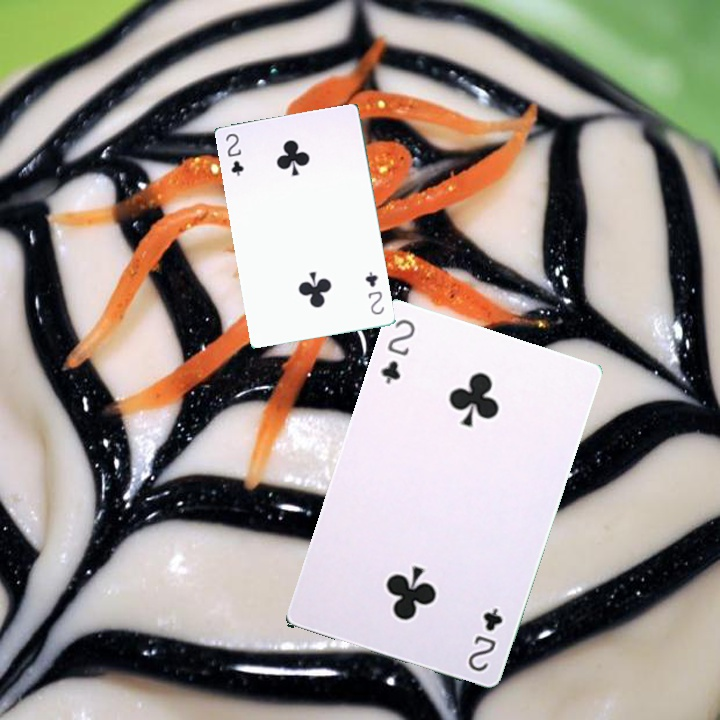2c: (376, 314, 418, 387), (463, 604, 505, 674), (361, 268, 387, 317), (221, 129, 246, 179)
